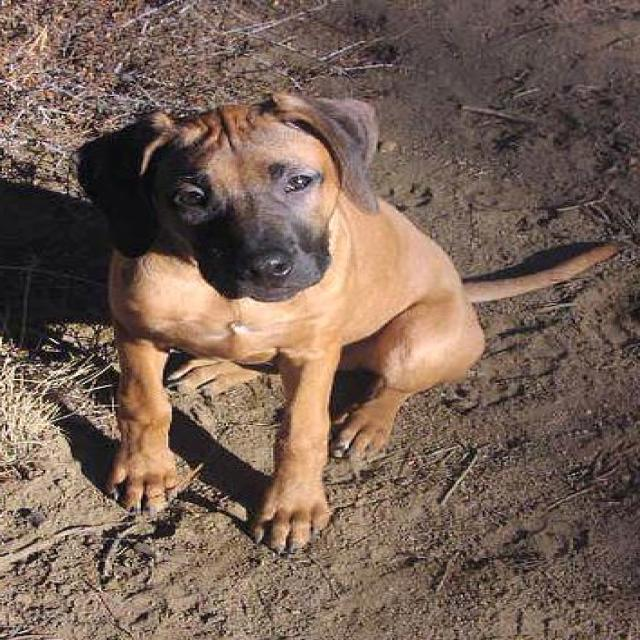rhodesian_ridgeback: (67, 86, 640, 564)
